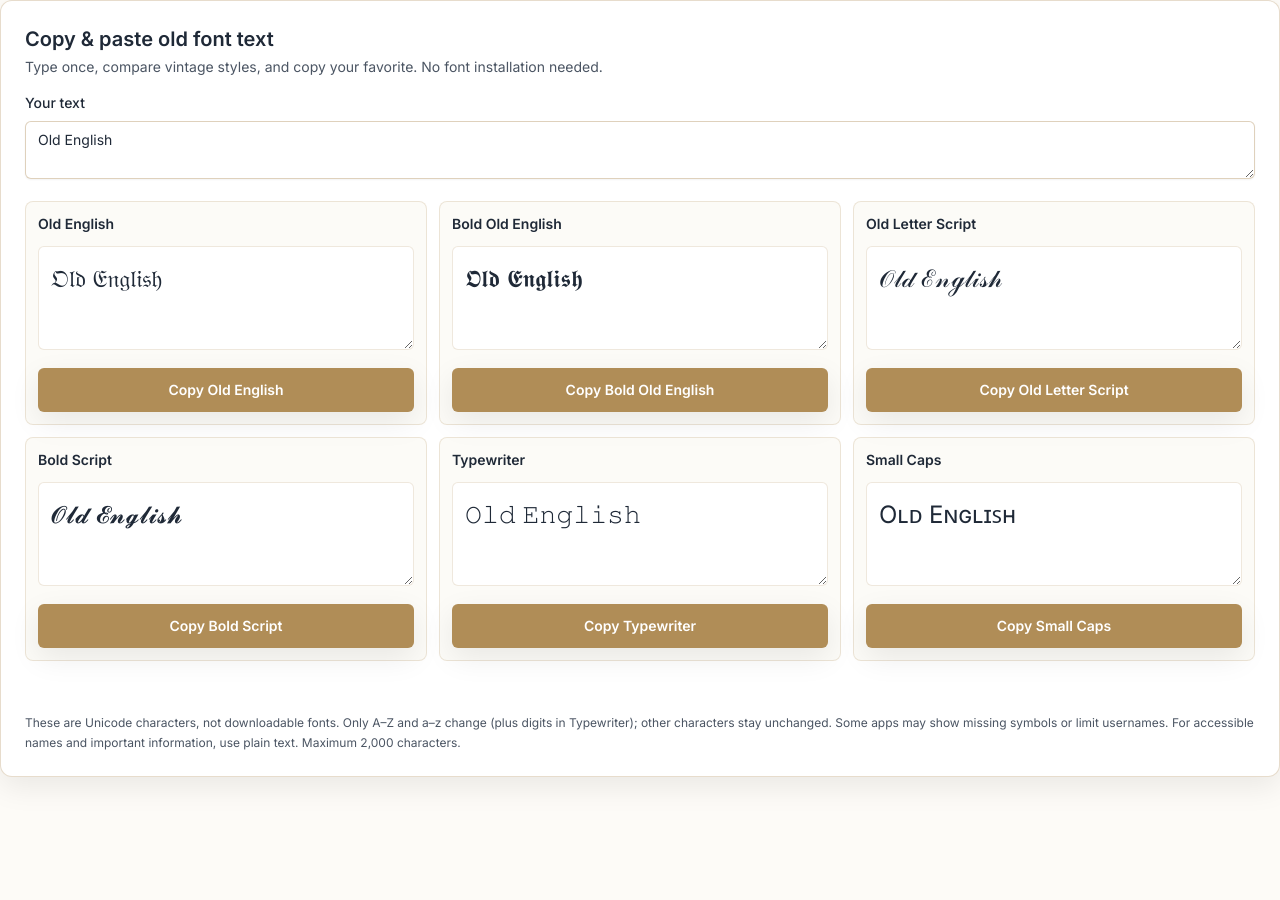
Test: Unicode clipboard interaction › selects the result for manual copying when clipboard access is denied
The width and height of the screenshot is (1280, 900).
Click the button "Copy Bold Old English" at coordinates (640, 390), box [452,368,828,412]
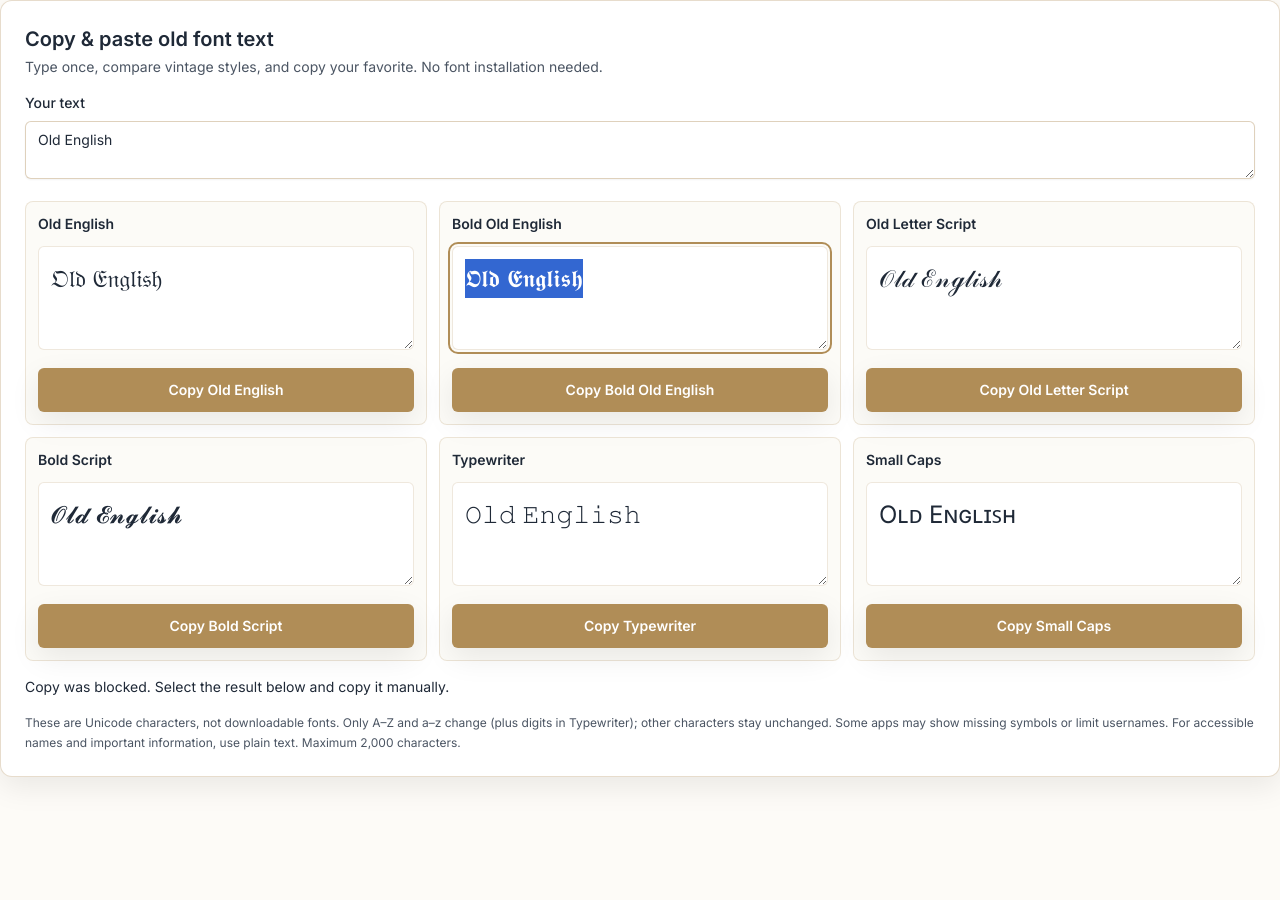
Check: the message shows "Copy was blocked", box [25,678,449,695]
